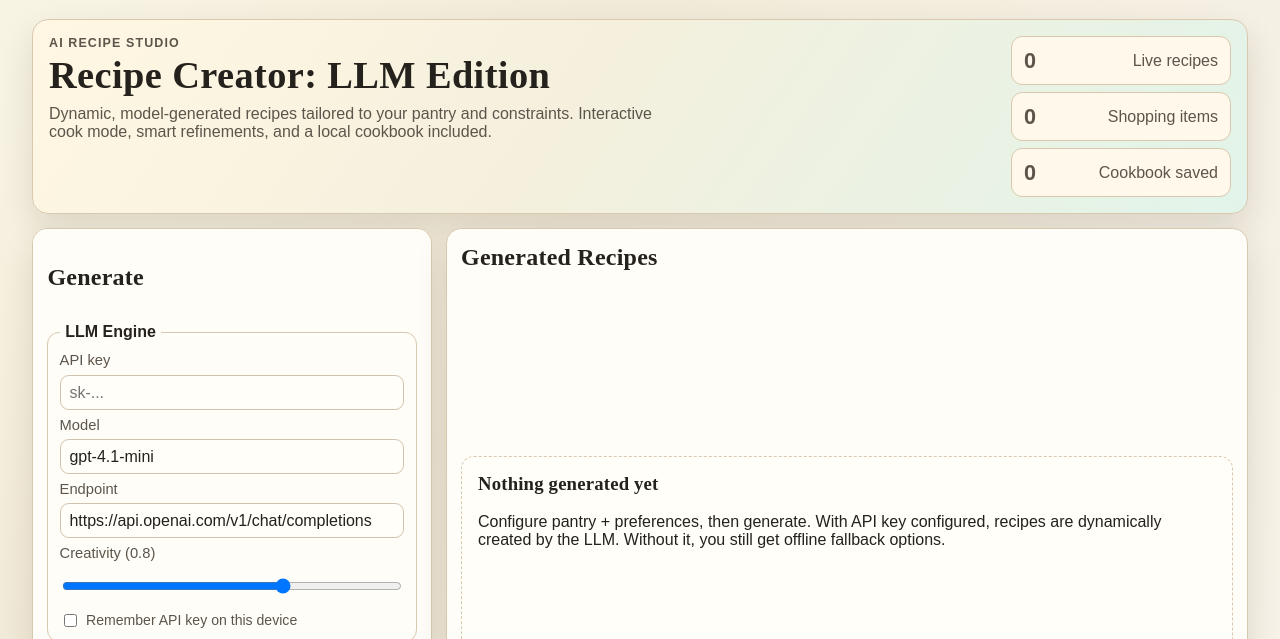
it: App LLM interactions › generates recipes from the LLM endpoint
Step 1. Type "sk-test-key" into the password field labelled "API key" → (232, 393), box [60,375,404,410]
(page scrolled)
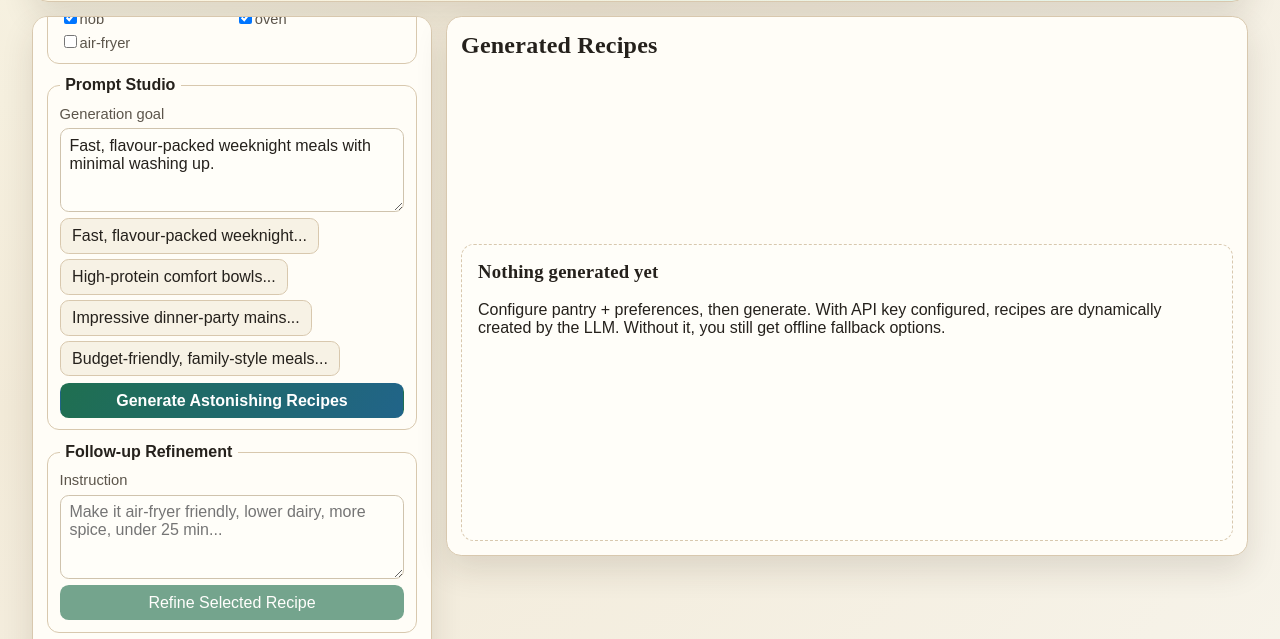
Step 2. Click the button "Generate Astonishing Recipes" → (232, 400), box [60,383,404,418]
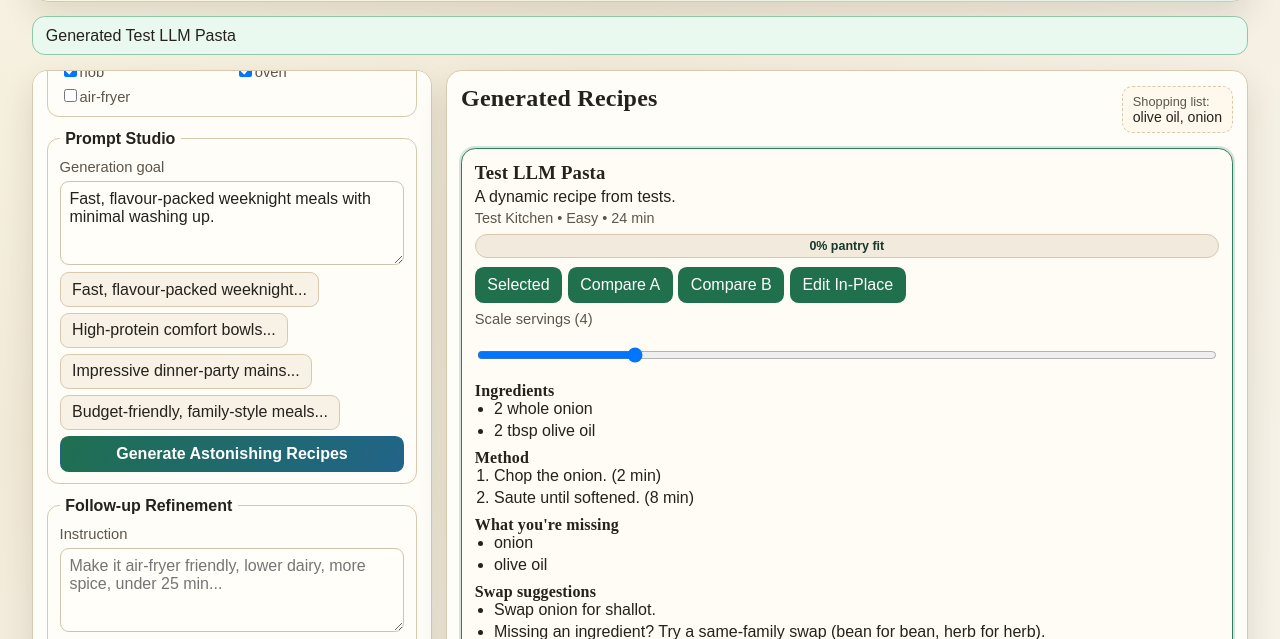
Expected: the heading "Test LLM Pasta" is shown, [475,162,606,183]
Expected: the text "Generated Test LLM Pasta" is shown, [32,16,1248,56]
